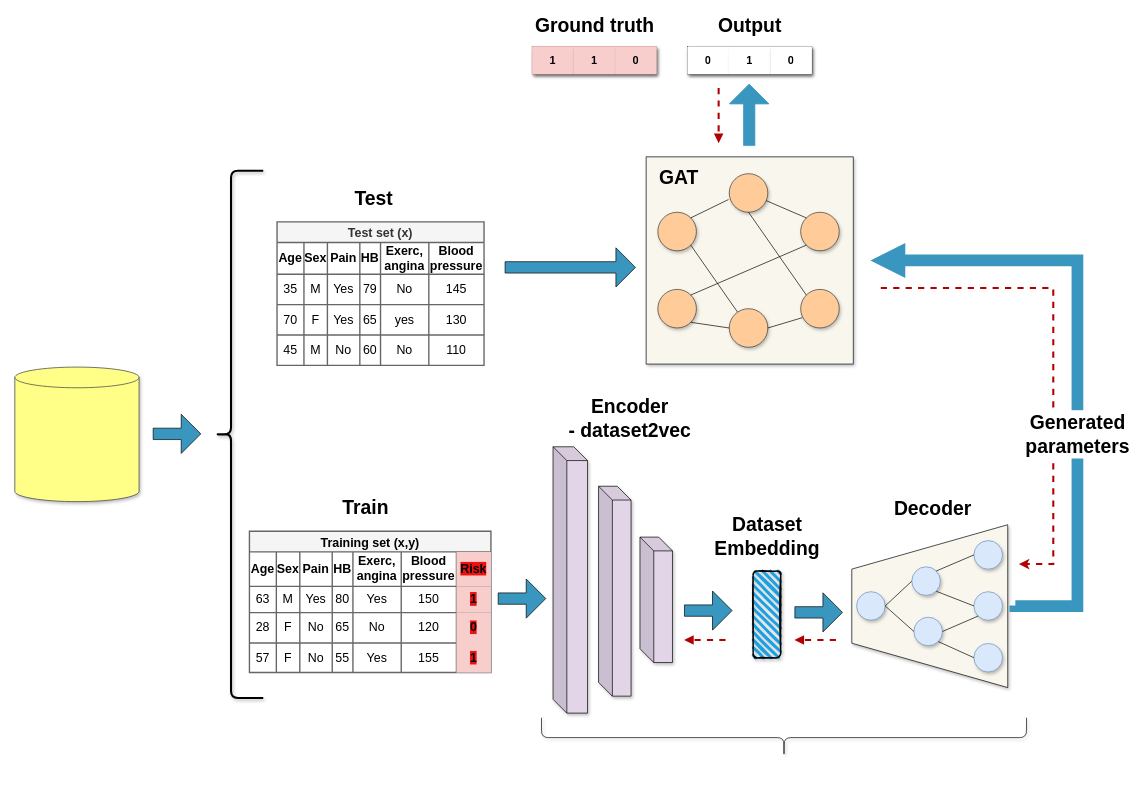
This 1145x803 diagram has some shape labels left out. Here are the shapes that lost their labels. From the top down, the centre of each, then its label:
At point 77,435: "Meta tasks".
At point 784,738: "Parameter generation module".
